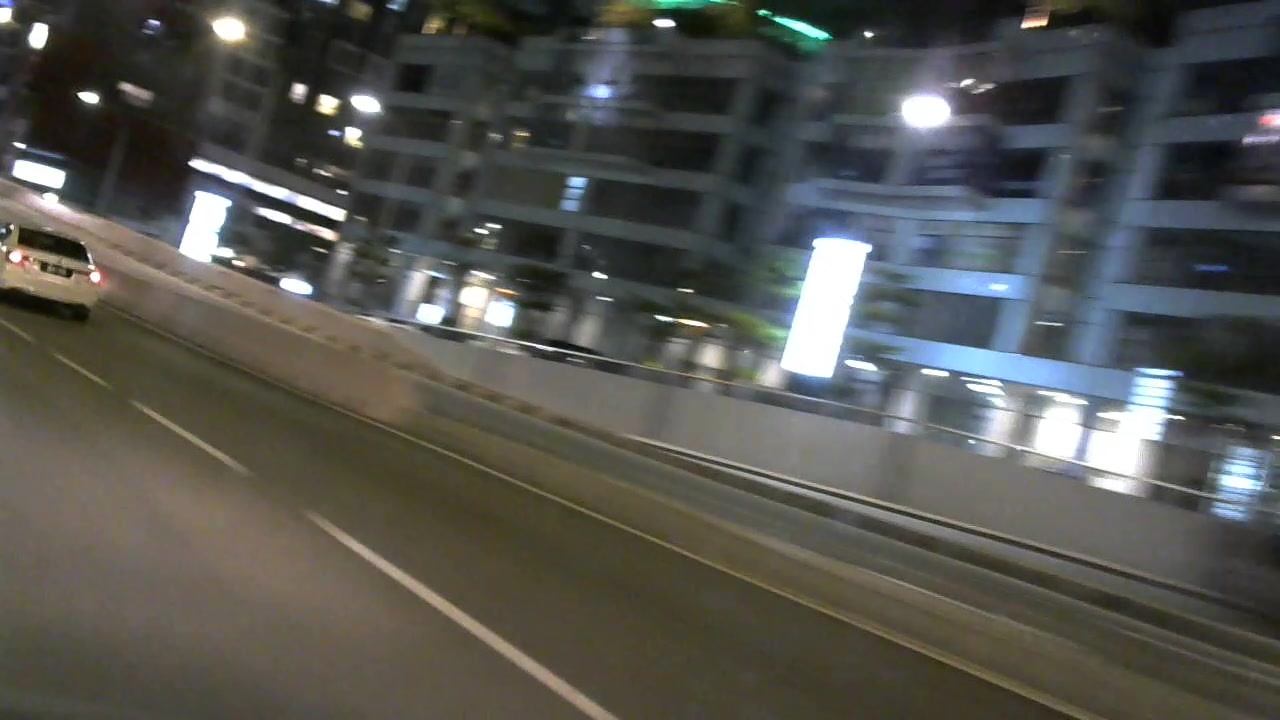Car: (1, 224, 99, 326)
